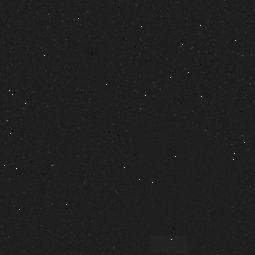cheops: (121, 224, 199, 255)
